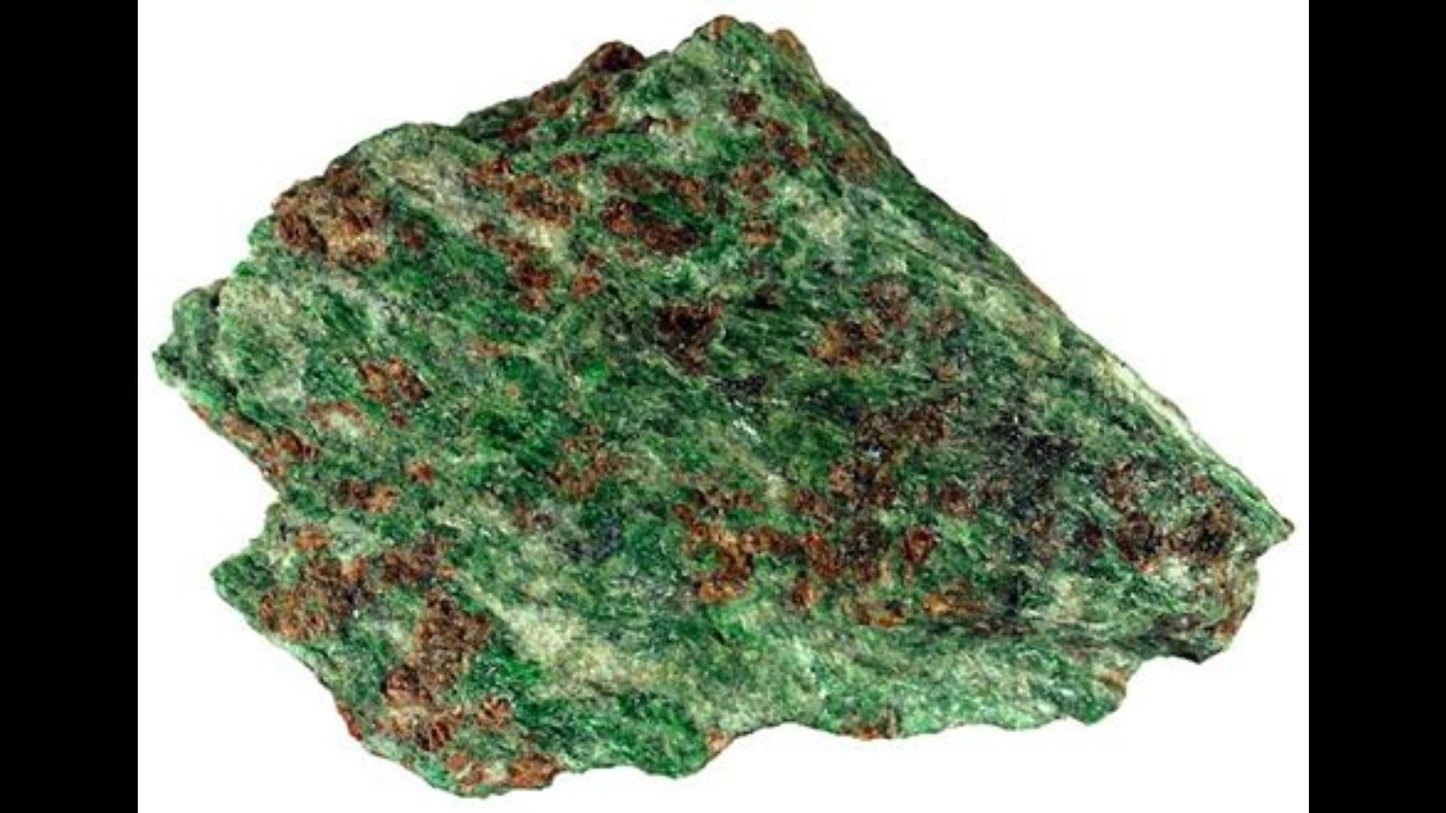rock: (157, 17, 1287, 791)
